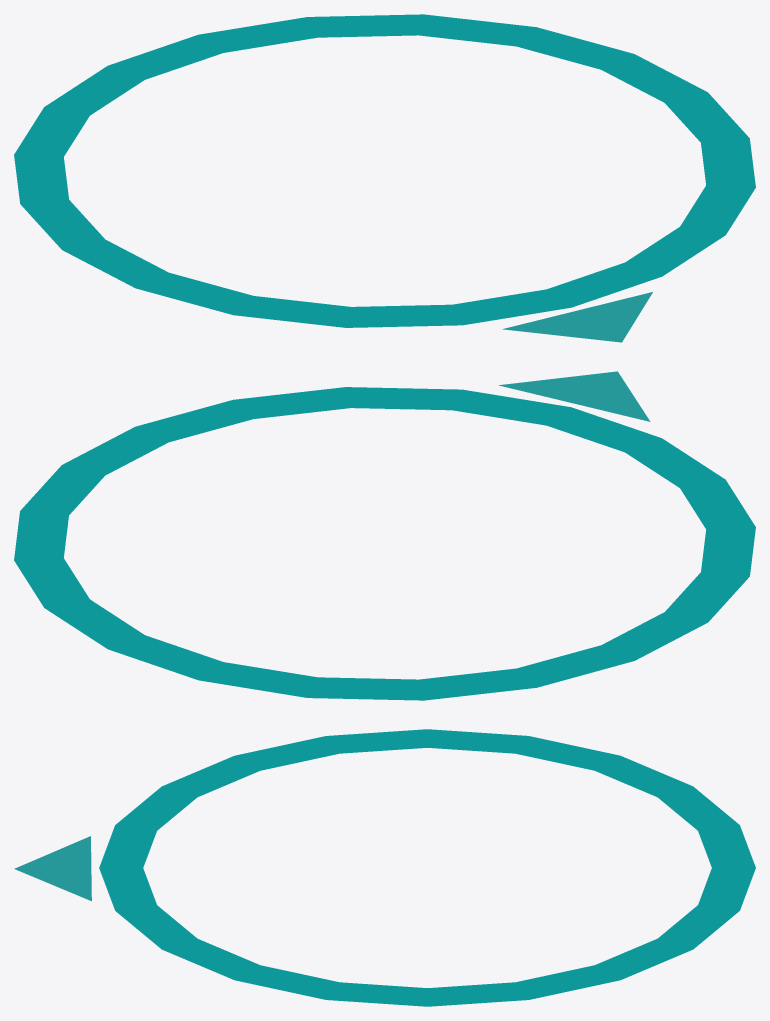
The model's file is Reticle.fbx.
The picture shows the model from 3 angles, top to bottom: view 1: azimuth 30°, elevation 25°; view 2: azimuth 150°, elevation 25°; view 3: azimuth 270°, elevation 25°; orthographic projection. The views are drawn at different scales.
Parts seen in each view (by area): view 1: Reticle; view 2: Reticle; view 3: Reticle.
Part boxes in pixels (<box>): Reticle: <box>14,14,755,342</box>; Reticle: <box>14,371,755,700</box>; Reticle: <box>14,729,755,1006</box>.
Bounding box in the file's own units: 600 × 0 × 678.
